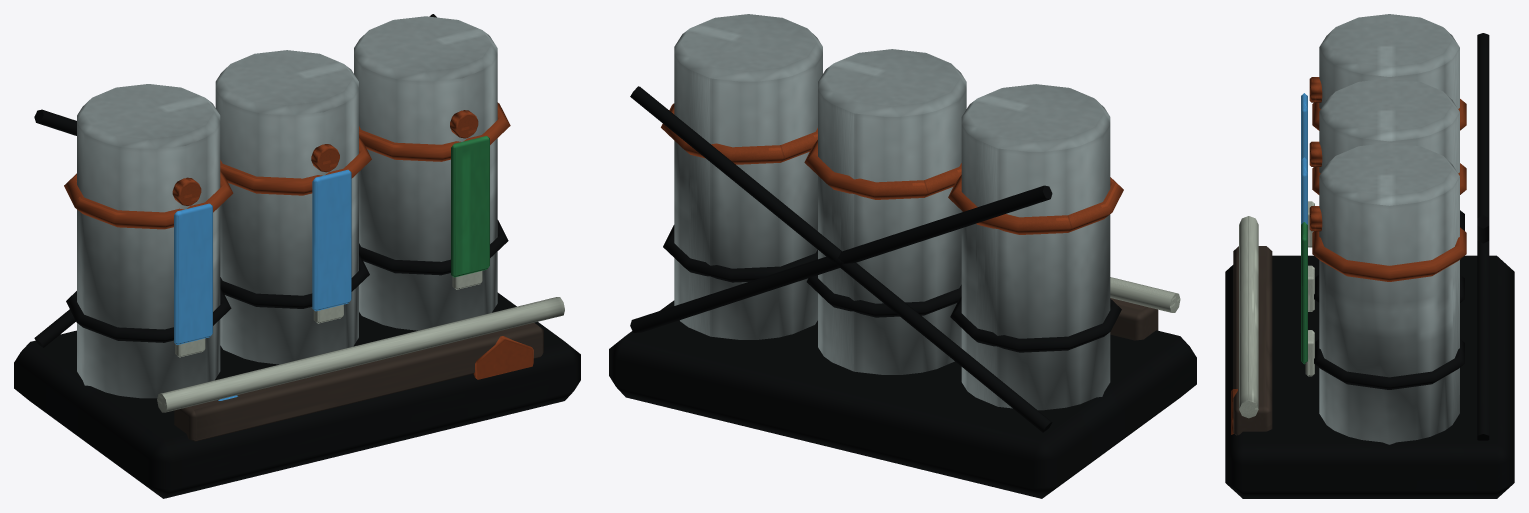
The model's file is storage-low.glb.
The picture shows the model from 3 angles, left to right: view 1: azimuth 30°, elevation 25°; view 2: azimuth 150°, elevation 25°; view 3: azimuth 270°, elevation 25°; orthographic projection. The views are drawn at different scales.
Visible parts, largest first — view 1: Storage_Rack_Base.001, Storage_Canister_0.001, Storage_Canister_1.001, Storage_Canister_2.001, LEVEL_0.002, Storage_Access_Rail.001, LEVEL_2.002, LEVEL_1.002, LEVEL_3.002, Storage_Collar_0.001, Storage_Collar_2.001, Storage_Collar_1.001 (+9 smaller); view 2: Storage_Rack_Base.001, Storage_Canister_0.001, Storage_Canister_2.001, Storage_Canister_1.001, Storage_Back_Brace_A.001, Storage_Back_Brace_B.001, Storage_Collar_0.001, Storage_Collar_1.001, Storage_Lower_Collar_0.001, Storage_Collar_2.001, Storage_Lower_Collar_1.001, Storage_Lower_Collar_2.001 (+2 smaller); view 3: Storage_Canister_2.001, Storage_Rack_Base.001, Storage_Canister_0.001, Storage_Canister_1.001, Storage_Back_Brace_B.001, LEVEL_0.002, Storage_Access_Rail.001, Storage_Collar_2.001, Storage_Lower_Collar_2.001, LEVEL_3.002, LEVEL_1.002, LEVEL_2.002 (+7 smaller).
Boxes of the visible parts, bbox=[...] form: Storage_Rack_Base.001: bbox=[14, 292, 580, 498]; Storage_Canister_0.001: bbox=[77, 84, 220, 398]; Storage_Canister_1.001: bbox=[215, 50, 358, 364]; Storage_Canister_2.001: bbox=[354, 16, 497, 330]; LEVEL_0.002: bbox=[174, 323, 543, 441]; Storage_Access_Rail.001: bbox=[157, 297, 564, 412]; LEVEL_2.002: bbox=[312, 169, 351, 311]; LEVEL_1.002: bbox=[174, 203, 212, 344]; LEVEL_3.002: bbox=[451, 136, 489, 277]; Storage_Collar_0.001: bbox=[64, 171, 233, 229]; Storage_Collar_2.001: bbox=[359, 102, 510, 161]; Storage_Collar_1.001: bbox=[220, 138, 371, 195]; Storage_Rack_Base.001: bbox=[609, 300, 1196, 498]; Storage_Canister_0.001: bbox=[961, 84, 1110, 410]; Storage_Canister_2.001: bbox=[674, 14, 822, 339]; Storage_Canister_1.001: bbox=[818, 49, 966, 374]; Storage_Back_Brace_A.001: bbox=[630, 86, 1052, 432]; Storage_Back_Brace_B.001: bbox=[630, 185, 1052, 332]; Storage_Collar_0.001: bbox=[948, 175, 1123, 234]; Storage_Collar_1.001: bbox=[804, 140, 961, 199]; Storage_Lower_Collar_0.001: bbox=[950, 296, 1121, 352]; Storage_Collar_2.001: bbox=[661, 103, 817, 164]; Storage_Lower_Collar_1.001: bbox=[806, 275, 961, 317]; Storage_Lower_Collar_2.001: bbox=[663, 225, 817, 282]; Storage_Canister_2.001: bbox=[1319, 142, 1459, 444]; Storage_Rack_Base.001: bbox=[1225, 255, 1514, 498]; Storage_Canister_0.001: bbox=[1319, 14, 1459, 108]; Storage_Canister_1.001: bbox=[1319, 78, 1459, 173]; Storage_Back_Brace_B.001: bbox=[1477, 33, 1489, 440]; LEVEL_0.002: bbox=[1233, 246, 1272, 435]; Storage_Access_Rail.001: bbox=[1239, 216, 1258, 418]; Storage_Collar_2.001: bbox=[1312, 227, 1466, 281]; Storage_Lower_Collar_2.001: bbox=[1314, 339, 1464, 389]; LEVEL_3.002: bbox=[1301, 222, 1307, 364]; LEVEL_1.002: bbox=[1301, 93, 1307, 159]; LEVEL_2.002: bbox=[1301, 157, 1307, 224].
Size of the model in its own units: 1.22 by 0.85 by 0.74.
7 materials, 7 textured.
